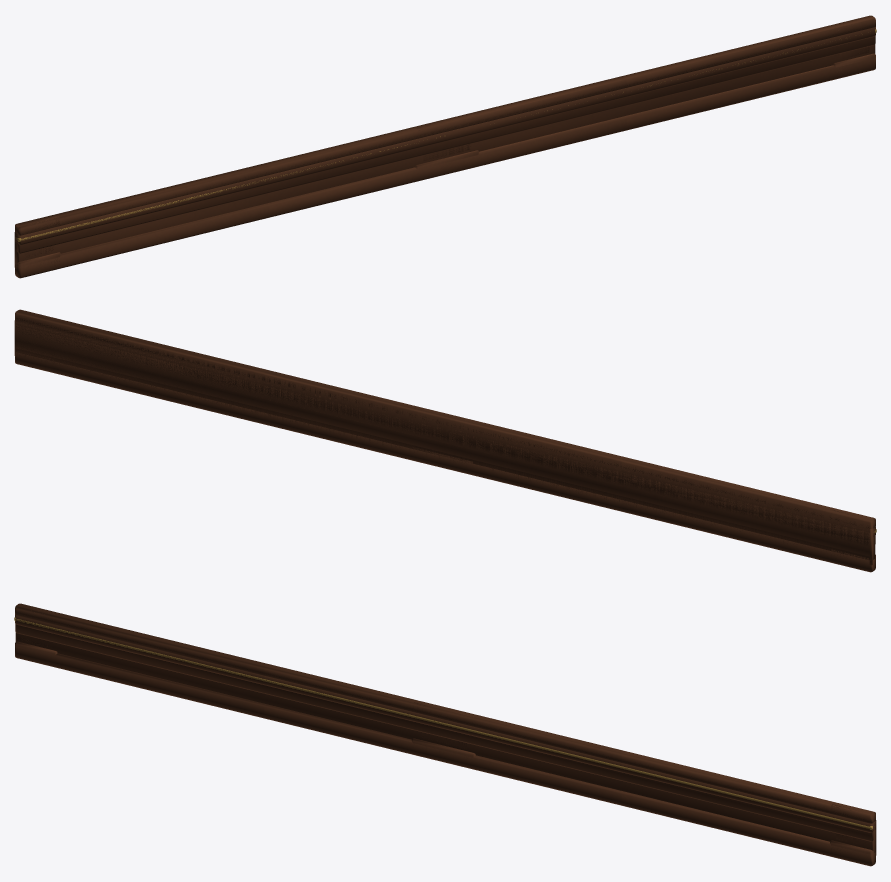
Rendered from asset_057_interior_trim_and_baseboard_kit.glb.
3 renders of one model, top to bottom at view 1: azimuth 30°, elevation 25°; view 2: azimuth 150°, elevation 25°; view 3: azimuth 330°, elevation 25°, orthographic.
Visible parts, largest first — view 1: MESH_LayeredDarkWalnutBaseboard, MESH_TrimCrownProfile, MESH_TrimDoorCasingProfile, MESH_TrimChairRailProfile, MESH_TrimJunctionConnector, MESH_TrimInsideCornerConnector; view 2: MESH_LayeredDarkWalnutBaseboard, MESH_TrimCrownProfile, MESH_TrimChairRailProfile, MESH_TrimDoorCasingProfile; view 3: MESH_LayeredDarkWalnutBaseboard, MESH_TrimCrownProfile, MESH_TrimDoorCasingProfile, MESH_TrimChairRailProfile, MESH_TrimJunctionConnector, MESH_TrimEndCapConnector.
Boxes of the visible parts, left/top/right/bottom form: MESH_LayeredDarkWalnutBaseboard: left=14, top=15, right=876, bottom=278; MESH_TrimCrownProfile: left=15, top=15, right=875, bottom=253; MESH_TrimDoorCasingProfile: left=14, top=20, right=875, bottom=269; MESH_TrimChairRailProfile: left=14, top=27, right=875, bottom=264; MESH_TrimJunctionConnector: left=415, top=113, right=479, bottom=181; MESH_TrimInsideCornerConnector: left=17, top=215, right=60, bottom=277; MESH_LayeredDarkWalnutBaseboard: left=14, top=309, right=876, bottom=572; MESH_TrimCrownProfile: left=15, top=310, right=875, bottom=546; MESH_TrimChairRailProfile: left=14, top=322, right=875, bottom=560; MESH_TrimDoorCasingProfile: left=14, top=311, right=875, bottom=565; MESH_LayeredDarkWalnutBaseboard: left=14, top=604, right=876, bottom=866; MESH_TrimCrownProfile: left=15, top=603, right=875, bottom=841; MESH_TrimDoorCasingProfile: left=15, top=606, right=876, bottom=856; MESH_TrimChairRailProfile: left=15, top=615, right=876, bottom=852; MESH_TrimJunctionConnector: left=411, top=702, right=475, bottom=766; MESH_TrimEndCapConnector: left=830, top=804, right=873, bottom=855.
Size of the model in its own units: 2.4 by 0.14 by 0.025.
3 materials, 1 textured.
